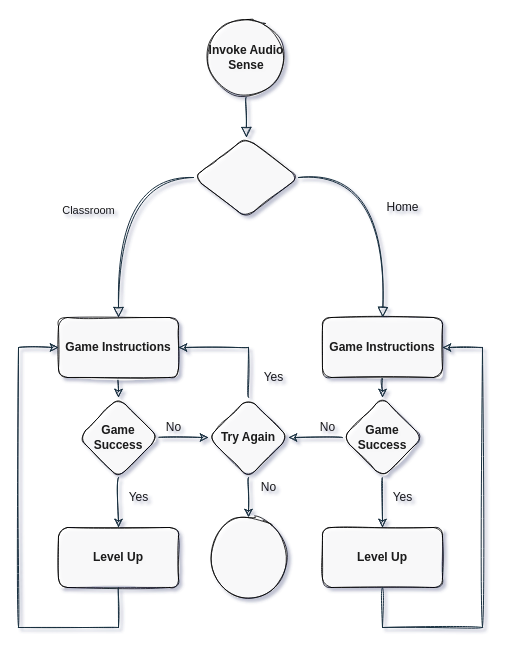
Some shapes in this 508 by 652 pixel diagram are drawn without their labels. The shapes that lost their labels are listed below. From the top down, each one's centre as x and y in pixels, then its label:
At (245,177): "Choose Environment".
At (248,557): "BYE".
